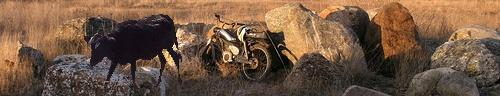tampered: (85, 15, 182, 94)
